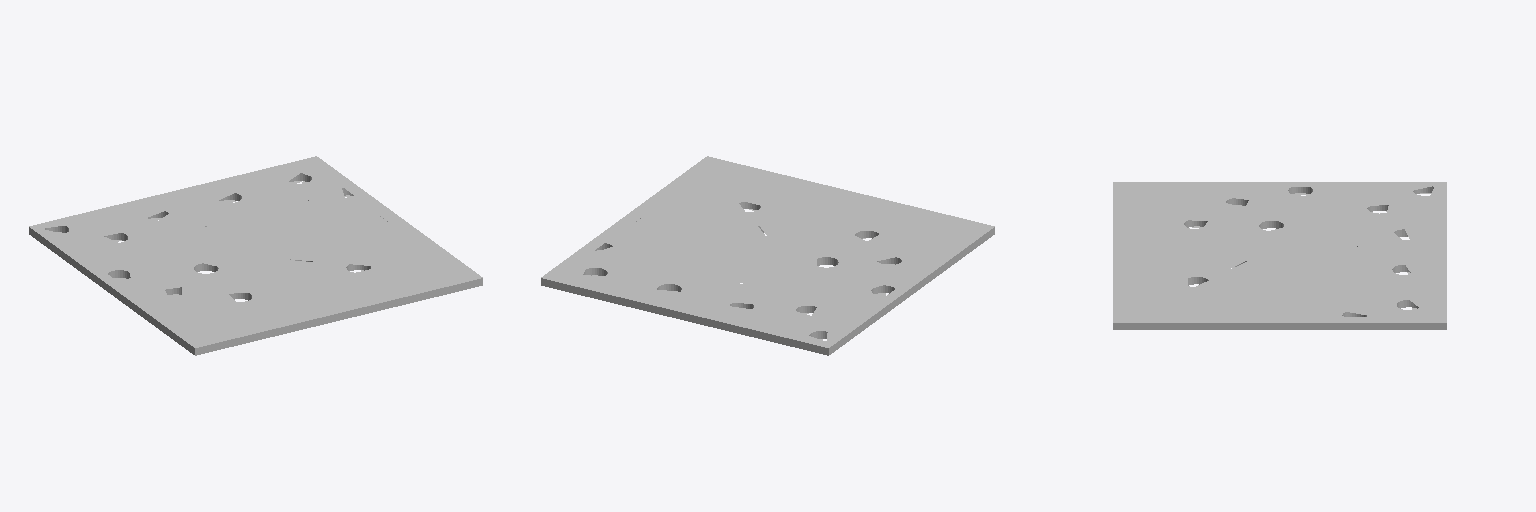
Rendered from stage5.obj.
3 views of the same model, side by side, from view 1: azimuth 30°, elevation 25°; view 2: azimuth 150°, elevation 25°; view 3: azimuth 270°, elevation 25° (orthographic).
Visible parts, largest first — view 1: Cube_Cube.002; view 2: Cube_Cube.002; view 3: Cube_Cube.002.
Boxes of the visible parts, <box> form: Cube_Cube.002: <box>29,156,482,355</box>; Cube_Cube.002: <box>541,156,994,355</box>; Cube_Cube.002: <box>1113,182,1446,329</box>.
Size of the model in its own units: 80 by 2 by 80.